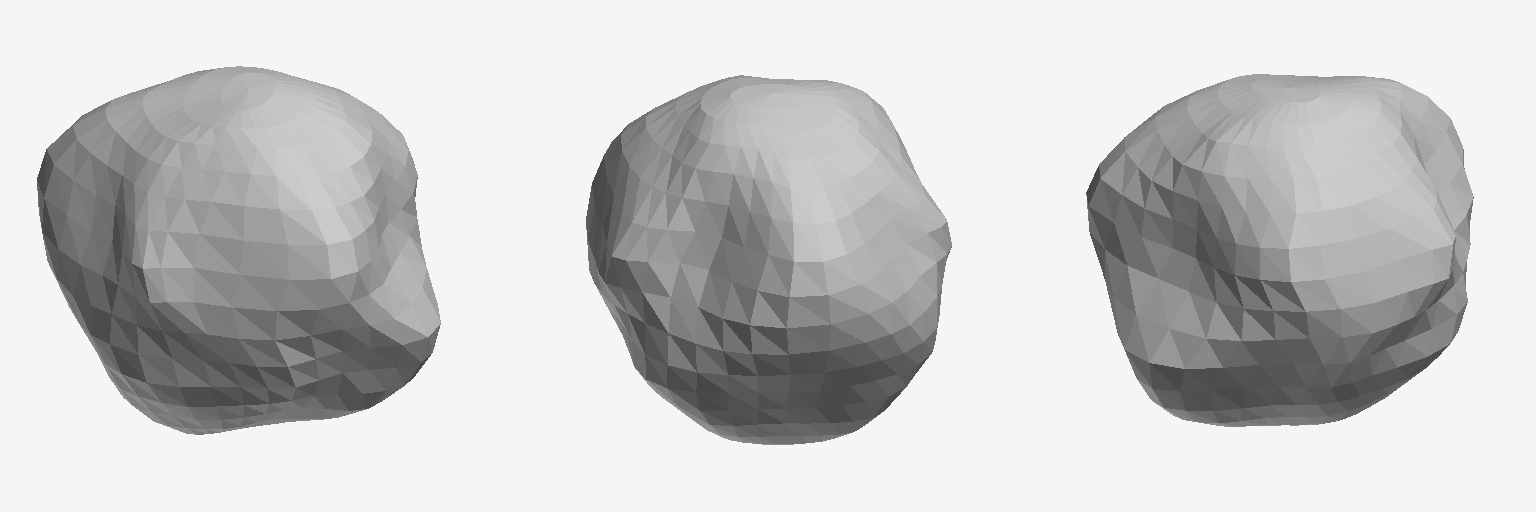
The model's file is Asterioid_preliminary.obj.
3 renders of one model, left to right at view 1: azimuth 30°, elevation 25°; view 2: azimuth 150°, elevation 25°; view 3: azimuth 270°, elevation 25°, orthographic.
Visible parts, largest first — view 1: Sphere001; view 2: Sphere001; view 3: Sphere001.
Part boxes in pixels (left/top/right/bottom): Sphere001: left=37, top=66, right=440, bottom=434; Sphere001: left=586, top=75, right=951, bottom=444; Sphere001: left=1086, top=74, right=1473, bottom=426.
Bounding box in the file's own units: 365 × 356 × 377.